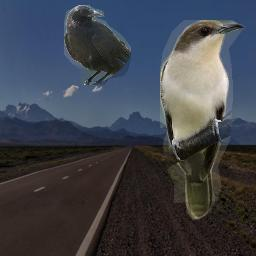Crow: (64, 5, 131, 85)
Cuckoo: (160, 20, 245, 221)
